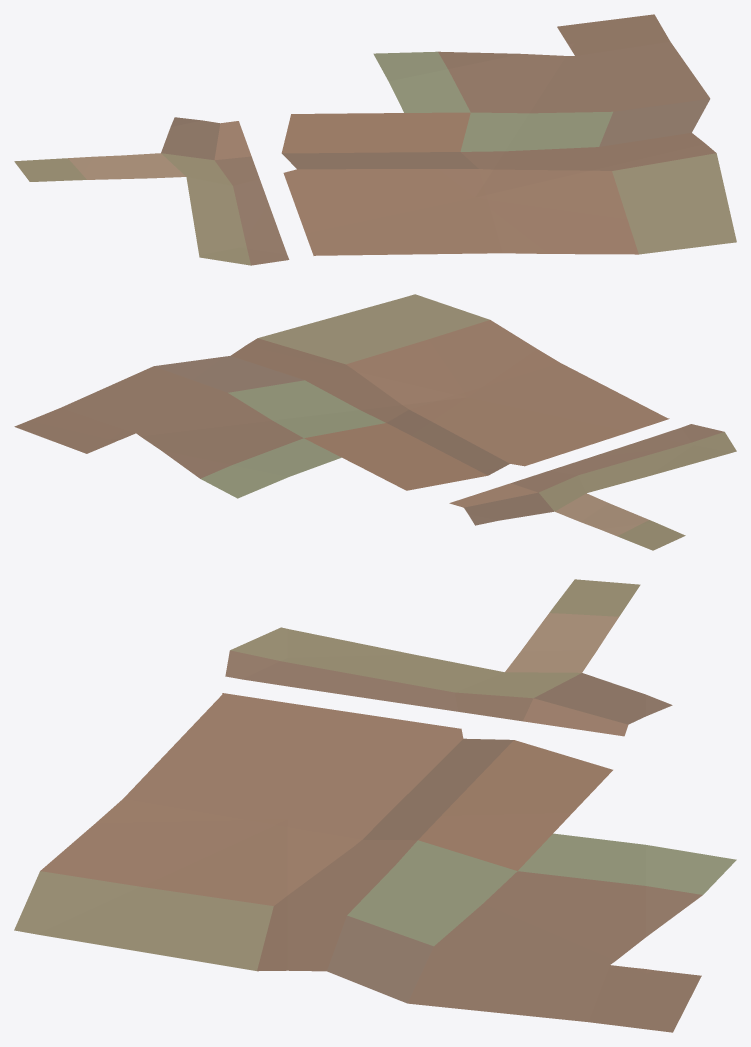
The model's file is farm_18_20_soil.glb.
The picture shows the model from 3 angles, top to bottom: view 1: azimuth 30°, elevation 25°; view 2: azimuth 150°, elevation 25°; view 3: azimuth 270°, elevation 25°; orthographic projection. The views are drawn at different scales.
Parts seen in each view (by area): view 1: geometry_0; view 2: geometry_0; view 3: geometry_0.
Boxes of the visible parts, box(x1,y1,x2,y2) form: geometry_0: box(14, 14, 736, 265); geometry_0: box(14, 294, 736, 550); geometry_0: box(14, 579, 736, 1032).
Bounding box in the file's own units: 225 × 8.28 × 161.
